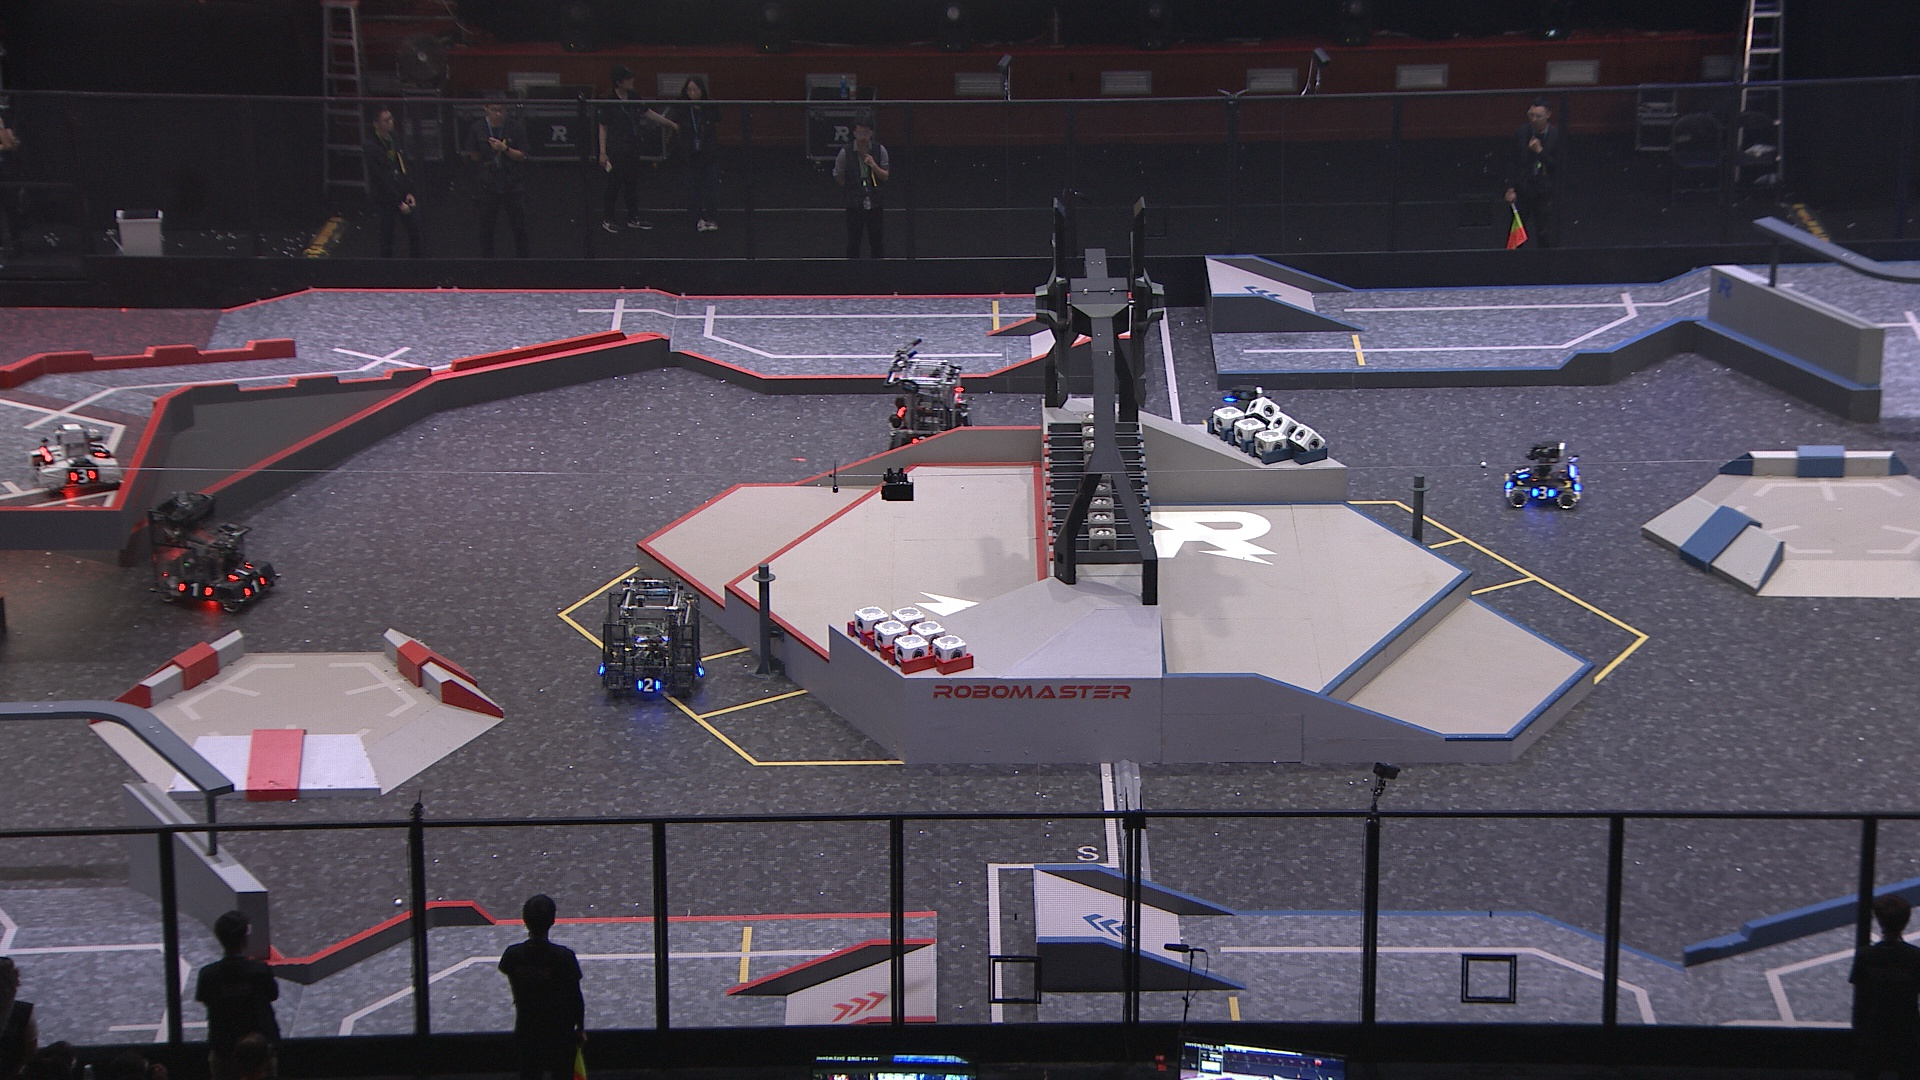armor: (240, 571, 268, 605), (177, 576, 215, 600), (224, 556, 255, 584), (67, 465, 98, 487), (633, 675, 665, 694), (909, 433, 934, 452), (1532, 484, 1557, 504), (87, 438, 109, 458), (32, 455, 51, 477), (1515, 463, 1532, 481)
car: (150, 491, 281, 617), (593, 571, 704, 699), (880, 353, 975, 458), (25, 419, 129, 498), (1501, 436, 1585, 513), (1207, 380, 1295, 446)
